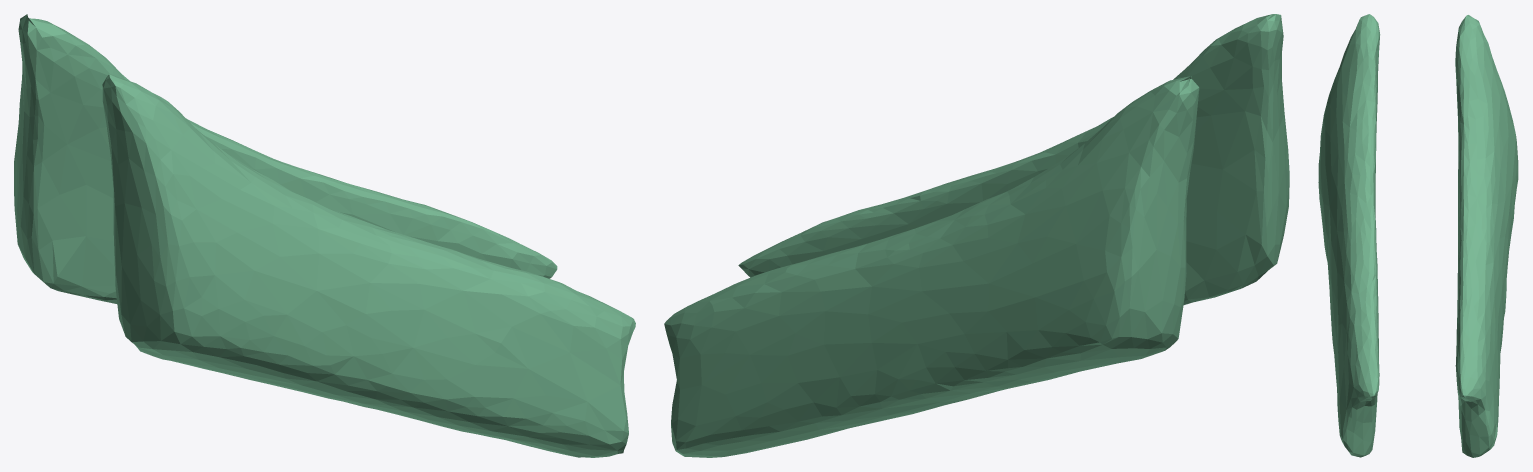
3 renders of one model, left to right at view 1: azimuth 30°, elevation 25°; view 2: azimuth 150°, elevation 25°; view 3: azimuth 270°, elevation 25°, orthographic. The views are drawn at different scales.
Visible parts, largest first — view 1: 772.obj; view 2: 772.obj; view 3: 772.obj.
Part boxes in pixels (x1=…): 772.obj: x1=14, y1=14, x2=635, y2=457; 772.obj: x1=664, y1=14, x2=1289, y2=457; 772.obj: x1=1318, y1=14, x2=1518, y2=457.
Size of the model in its own units: 2359 by 2110 by 1272.
